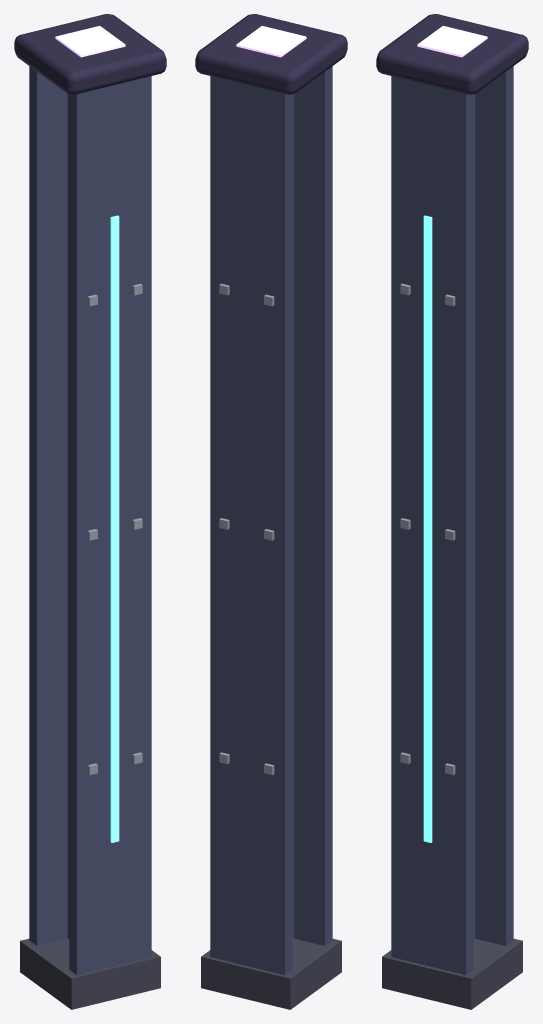
File: pfosten_voll.glb
The picture shows the model from 3 angles, left to right: view 1: azimuth 30°, elevation 25°; view 2: azimuth 150°, elevation 25°; view 3: azimuth 330°, elevation 25°; orthographic projection.
Parts seen in each view (by area): view 1: pfosten_voll; view 2: pfosten_voll; view 3: pfosten_voll.
Boxes of the visible parts, x1,y1,x2,y2 form: pfosten_voll: (14, 14, 166, 1009); pfosten_voll: (195, 14, 347, 1009); pfosten_voll: (376, 14, 528, 1009).
Size of the model in its own units: 0.27 by 2.4 by 0.27.
